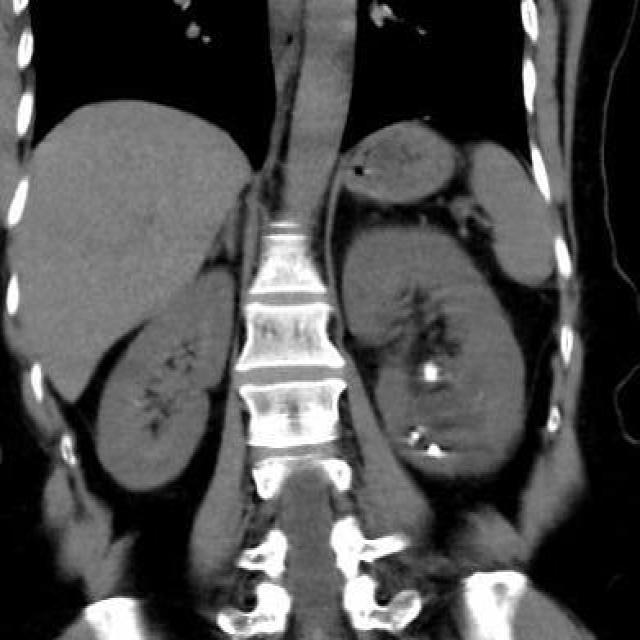Tas_Var: (420, 362, 444, 384), (422, 440, 448, 460), (408, 429, 424, 441)
